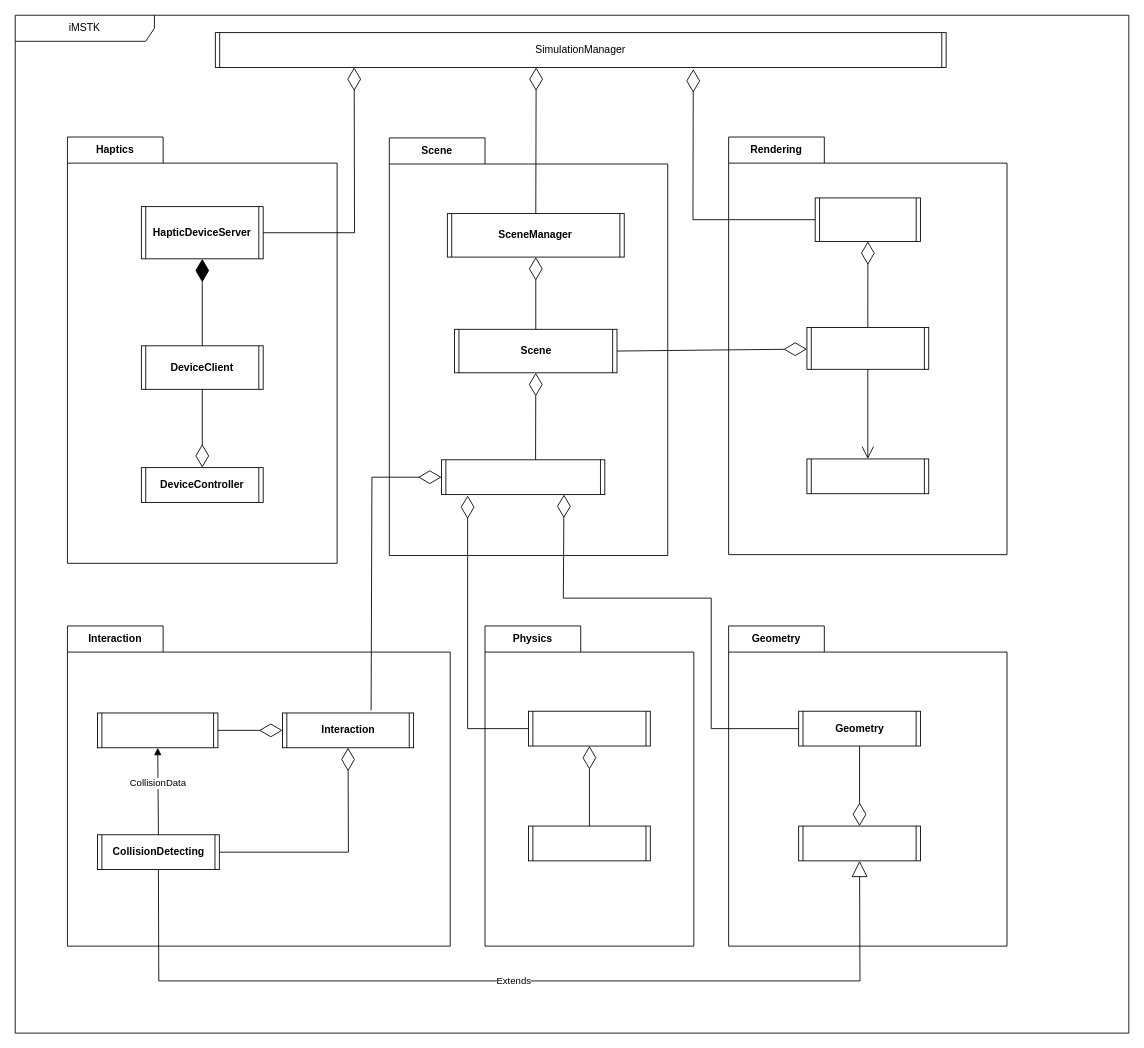
Some shapes in this 1144 by 1048 pixel diagram are drawn without their labels. The centre of each missing label's shape, as x and y in pixels:
CollisionHandling: the point at 157,730
DynamicalModel: the point at 589,728
GeometryAlgorithm: the point at 859,843
Renderer: the point at 867,348
SceneEntity: the point at 523,477
Solver: the point at 589,843
Viewer: the point at 867,219
VTK: the point at 867,476
